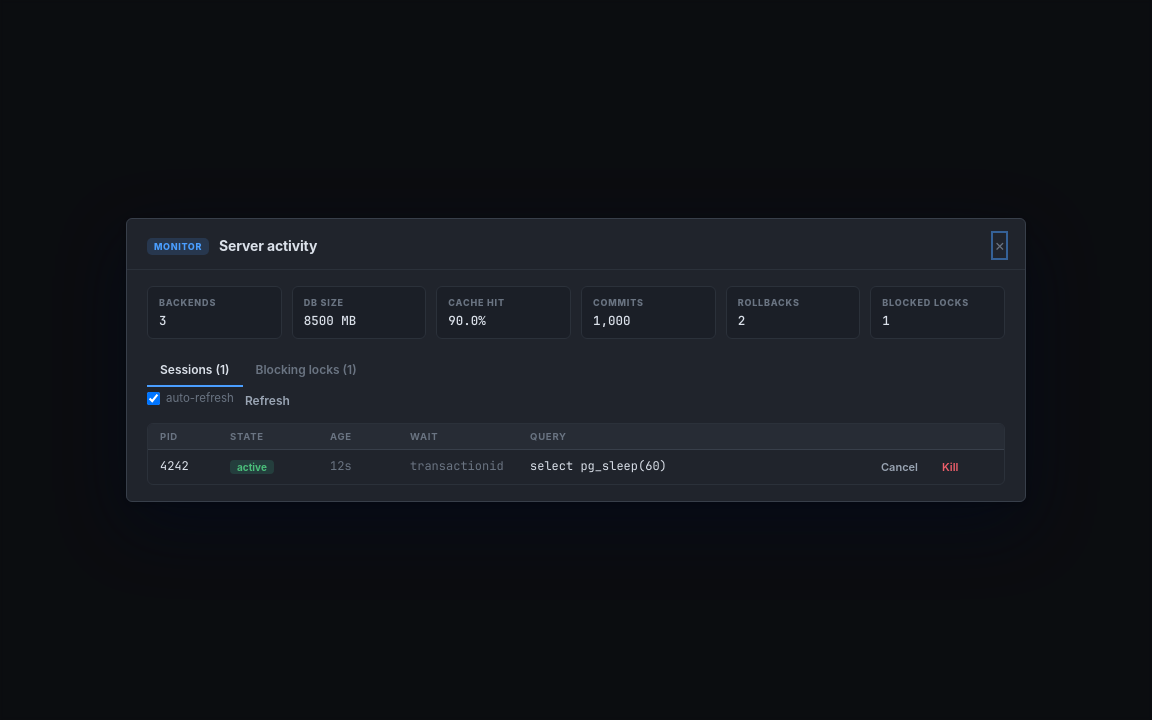
Test: MonitorModal — locks › dashes an unknown user and mode
This screenshot has width=1152, height=720.
Click the button "Blocking locks (1)": (306,370) [242, 353, 370, 387]
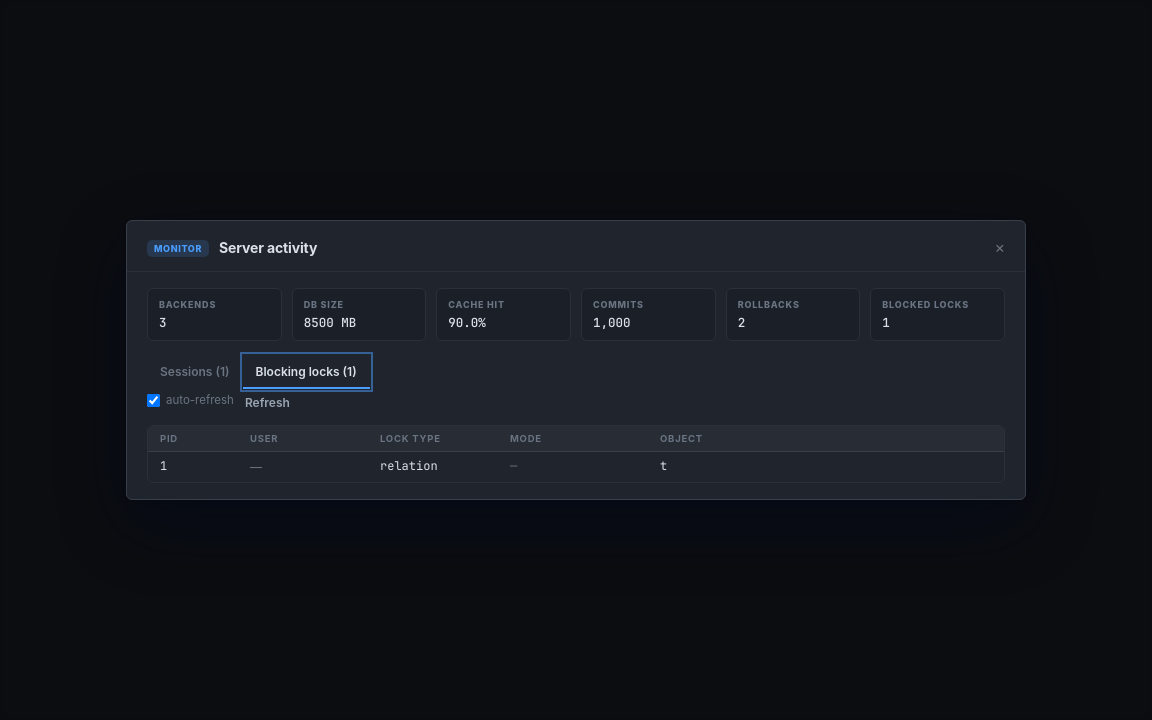
Expected: the text "—" is shown 2 times, [250, 459, 262, 474]; [510, 458, 517, 474]
